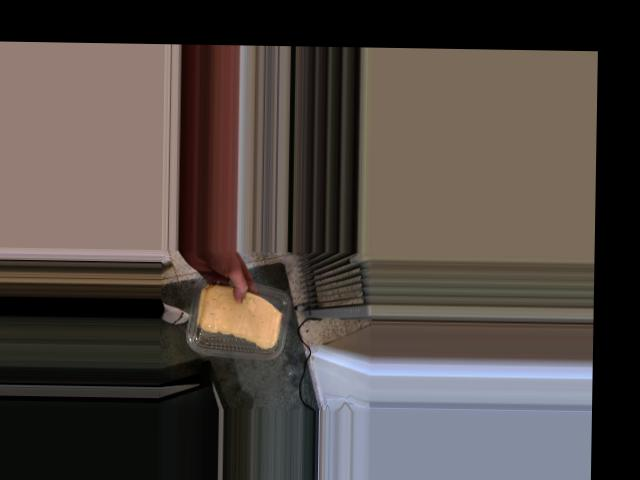cheese: (187, 278, 289, 353)
